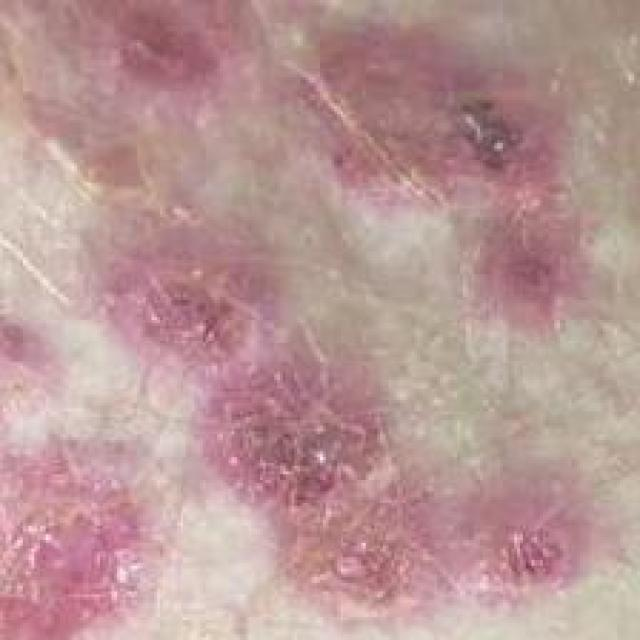monkeypox: (0, 15, 624, 640)
